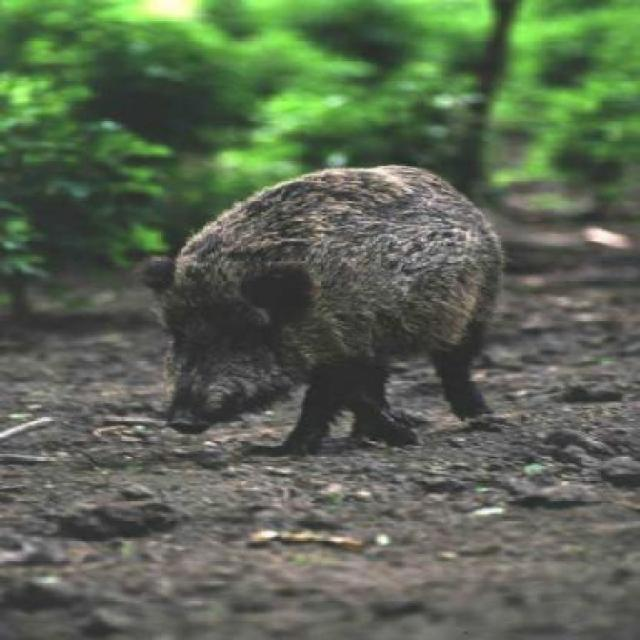pig: (128, 157, 529, 441)
